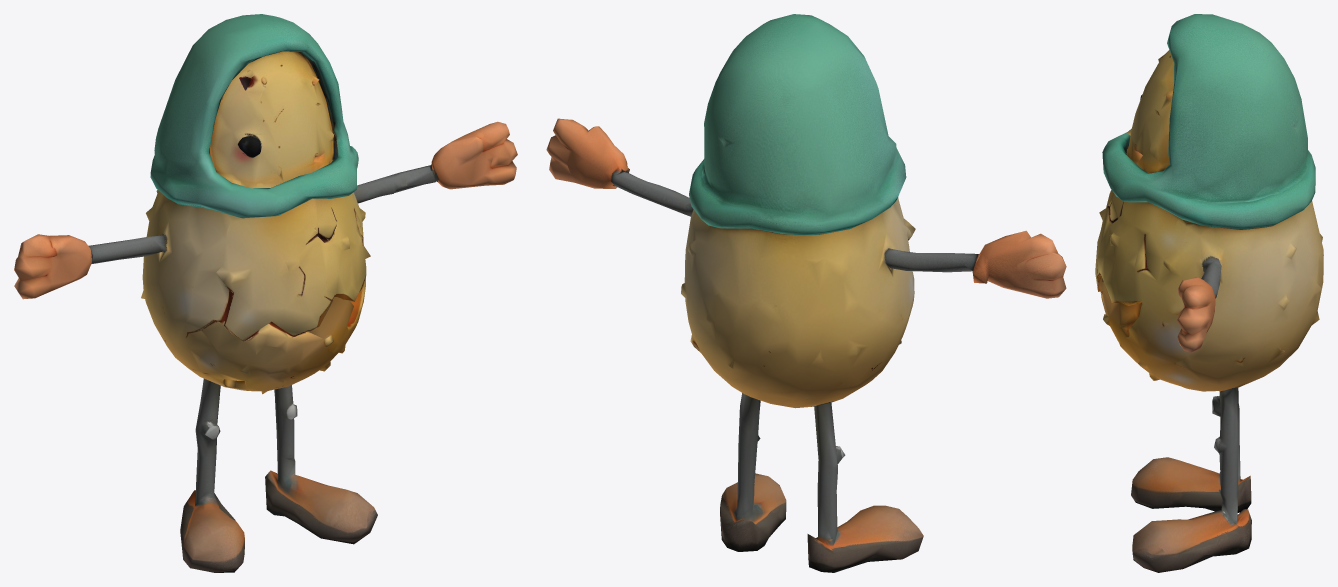
Rendered from enemy_infected_slasher_egg_3000.glb.
3 renders of one model, left to right at view 1: azimuth 30°, elevation 25°; view 2: azimuth 150°, elevation 25°; view 3: azimuth 270°, elevation 25°, orthographic. The views are drawn at different scales.
Parts seen in each view (by area): view 1: tripo_node_33c8ba60-fd85-4413-8a88-6b0aa8ed5a8b; view 2: tripo_node_33c8ba60-fd85-4413-8a88-6b0aa8ed5a8b; view 3: tripo_node_33c8ba60-fd85-4413-8a88-6b0aa8ed5a8b.
Part boxes in pixels (left/top/right/bottom): tripo_node_33c8ba60-fd85-4413-8a88-6b0aa8ed5a8b: left=14, top=14, right=517, bottom=572; tripo_node_33c8ba60-fd85-4413-8a88-6b0aa8ed5a8b: left=546, top=14, right=1066, bottom=572; tripo_node_33c8ba60-fd85-4413-8a88-6b0aa8ed5a8b: left=1095, top=14, right=1323, bottom=572.
Bounding box in the file's own units: 0.9808 × 0.959 × 0.389.
1 material, 1 textured.
